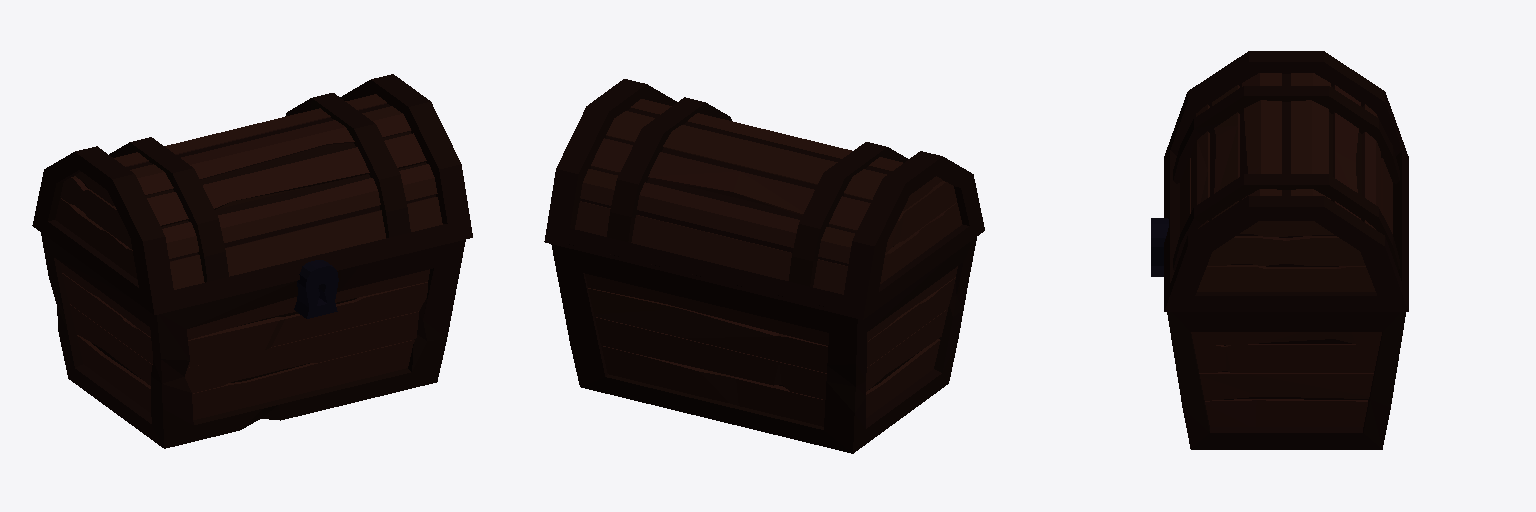
File: Chest.obj
The picture shows the model from 3 angles: view 1: azimuth 30°, elevation 25°; view 2: azimuth 150°, elevation 25°; view 3: azimuth 270°, elevation 25°; orthographic projection.
Visible parts, largest first — view 1: Chest_Top_Cylinder.007, Chest_Base_Cube; view 2: Chest_Top_Cylinder.007, Chest_Base_Cube; view 3: Chest_Top_Cylinder.007, Chest_Base_Cube.
Part boxes in pixels (x1,y1,x2,y2): Chest_Top_Cylinder.007: (32, 74, 472, 314); Chest_Base_Cube: (41, 233, 465, 448); Chest_Top_Cylinder.007: (544, 79, 984, 319); Chest_Base_Cube: (551, 237, 976, 453); Chest_Top_Cylinder.007: (1164, 51, 1408, 311); Chest_Base_Cube: (1151, 218, 1405, 449).
Bounding box in the file's own units: 1.18 × 0.8985 × 0.8238.